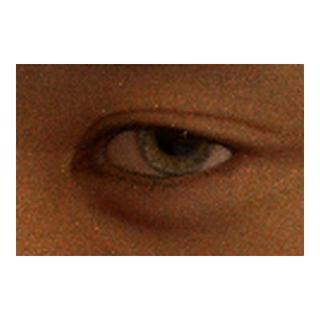pupil: (155, 113, 198, 156)
